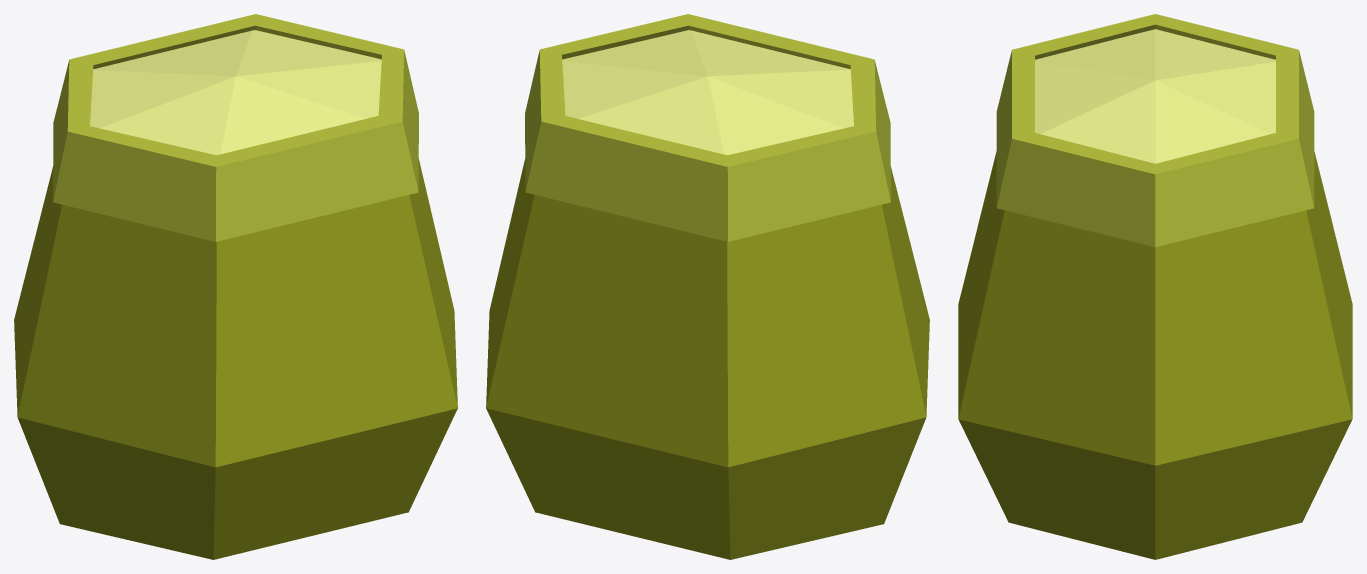
File: Sack 02.fbx
3 renders of one model, left to right at view 1: azimuth 30°, elevation 25°; view 2: azimuth 150°, elevation 25°; view 3: azimuth 270°, elevation 25°, orthographic. The views are drawn at different scales.
Visible parts, largest first — view 1: Sack_02; view 2: Sack_02; view 3: Sack_02.
Part boxes in pixels (left/top/right/bottom): Sack_02: left=14, top=14, right=457, bottom=559; Sack_02: left=486, top=14, right=929, bottom=559; Sack_02: left=958, top=14, right=1352, bottom=559.
Size of the model in its own units: 67.24 by 59.52 by 53.74.
